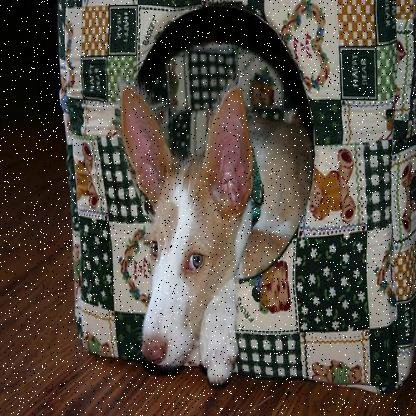dog: (117, 74, 271, 391)
